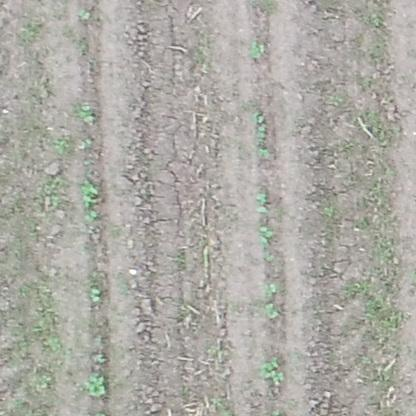vc: (249, 109, 273, 160), (79, 176, 100, 223), (259, 356, 286, 386), (86, 373, 109, 399), (77, 103, 98, 125), (248, 40, 269, 58), (261, 224, 272, 249), (265, 303, 281, 319), (255, 194, 267, 214), (79, 7, 92, 19), (91, 284, 100, 301), (263, 284, 277, 293)
